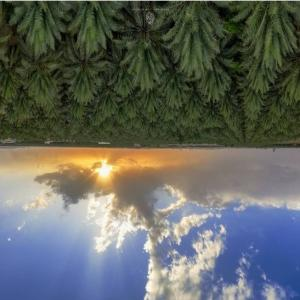palm tree: (0, 0, 299, 144)
